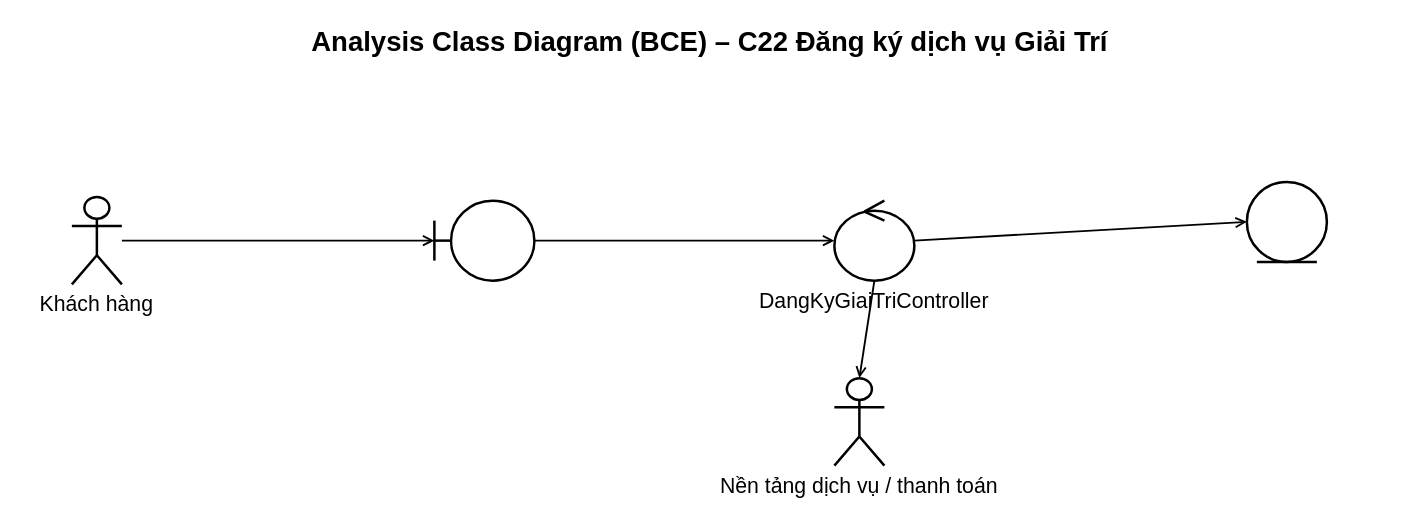
The diagram is 1418 pixels wide and 520 high, and some of its shapes have lost their labels. Here are the shapes that lost their labels. From the top down, the box of each, then its label:
(432, 199, 535, 281): DangKyGiaiTriPage
(1245, 180, 1328, 262): DangKyDichVu
